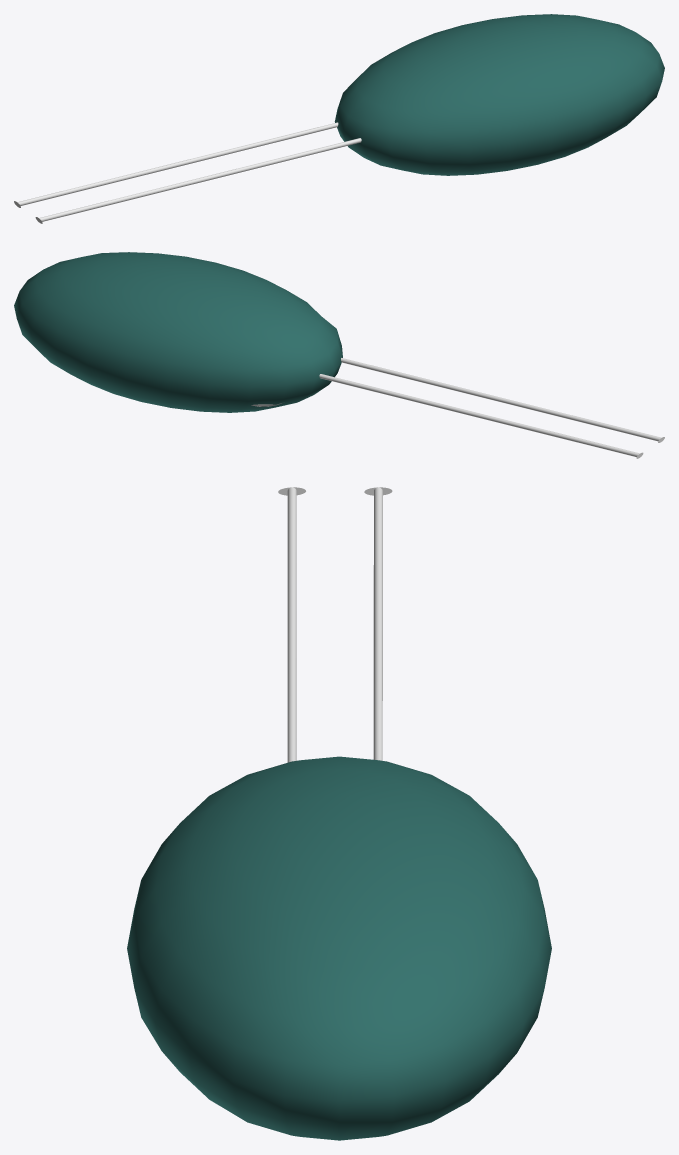
The model's file is eukarioth.fbx.
The picture shows the model from 3 angles, top to bottom: view 1: azimuth 30°, elevation 25°; view 2: azimuth 150°, elevation 25°; view 3: azimuth 270°, elevation 25°; orthographic projection. The views are drawn at different scales.
Parts seen in each view (by area): view 1: Объект_Сфера, Sweep_NURBS_0, Sweep_NURBS_1; view 2: Объект_Сфера, Sweep_NURBS_1, Sweep_NURBS_0; view 3: Объект_Сфера, Sweep_NURBS_0, Sweep_NURBS_1.
Part boxes in pixels (x1=…): Объект_Сфера: x1=334, y1=14, x2=664, y2=175; Sweep_NURBS_0: x1=39, y1=138, x2=361, y2=221; Sweep_NURBS_1: x1=17, y1=122, x2=338, y2=205; Объект_Сфера: x1=14, y1=252, x2=342, y2=412; Sweep_NURBS_1: x1=319, y1=374, x2=639, y2=456; Sweep_NURBS_0: x1=341, y1=358, x2=661, y2=441; Объект_Сфера: x1=127, y1=756, x2=551, y2=1140; Sweep_NURBS_0: x1=287, y1=487, x2=296, y2=762; Sweep_NURBS_1: x1=373, y1=487, x2=382, y2=760.
Bounding box in the file's own units: 639 × 116 × 187.
